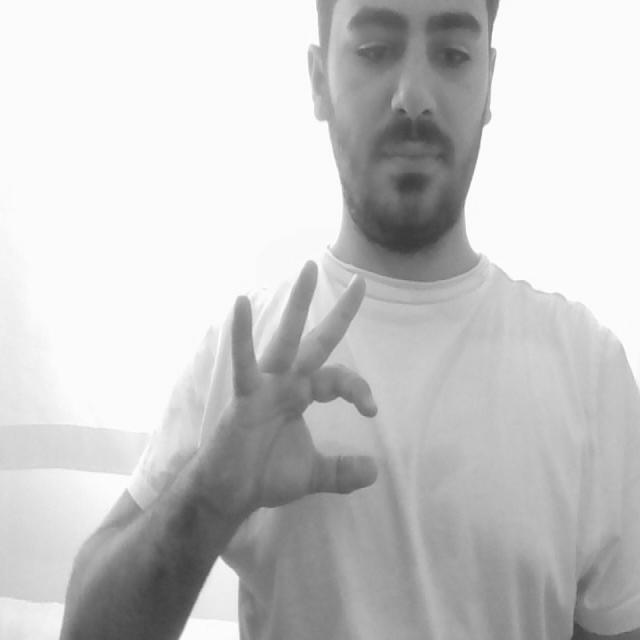Tuvalet: (200, 248, 432, 548)
